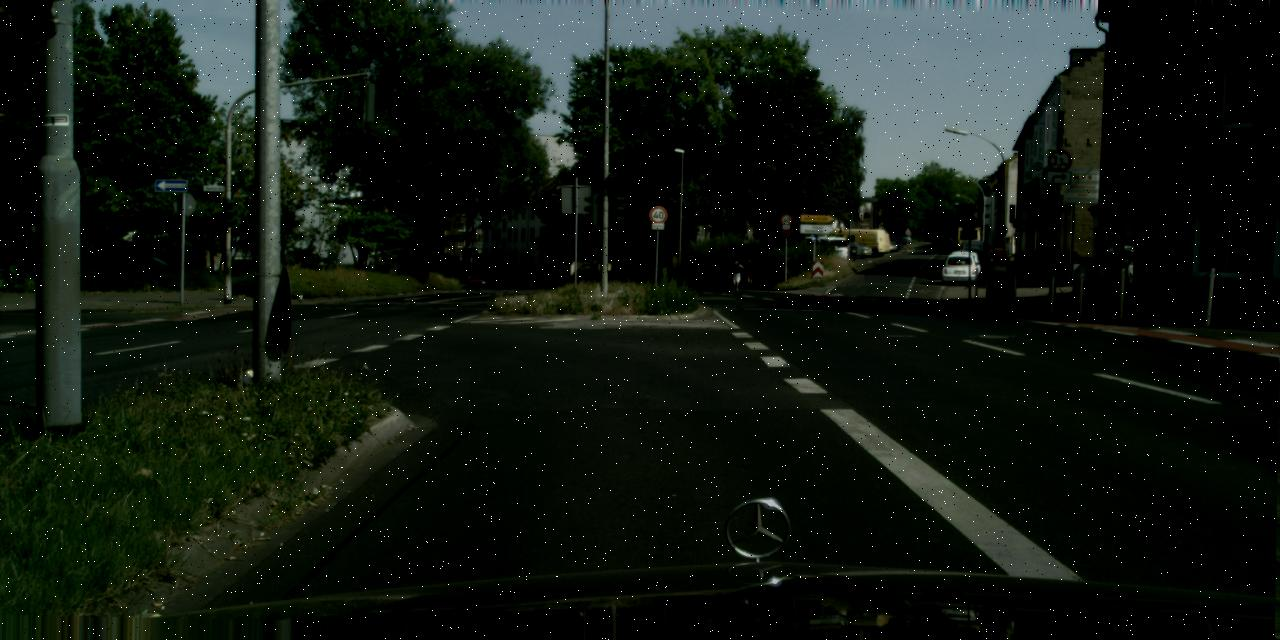ped: (984, 238, 1008, 299), (741, 255, 755, 288), (729, 256, 743, 288)
